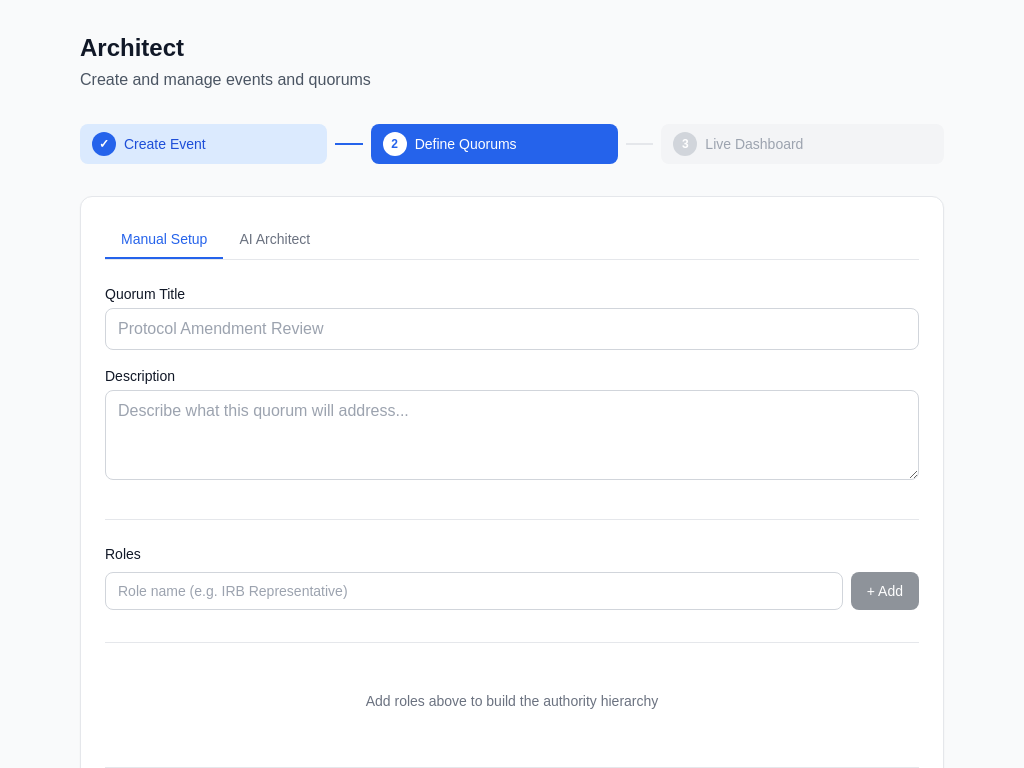
AI Architect Panel › switches to AI Architect panel when tab is clicked
Click the button "AI Architect".
click(275, 240)  # box [223,221,326,259]
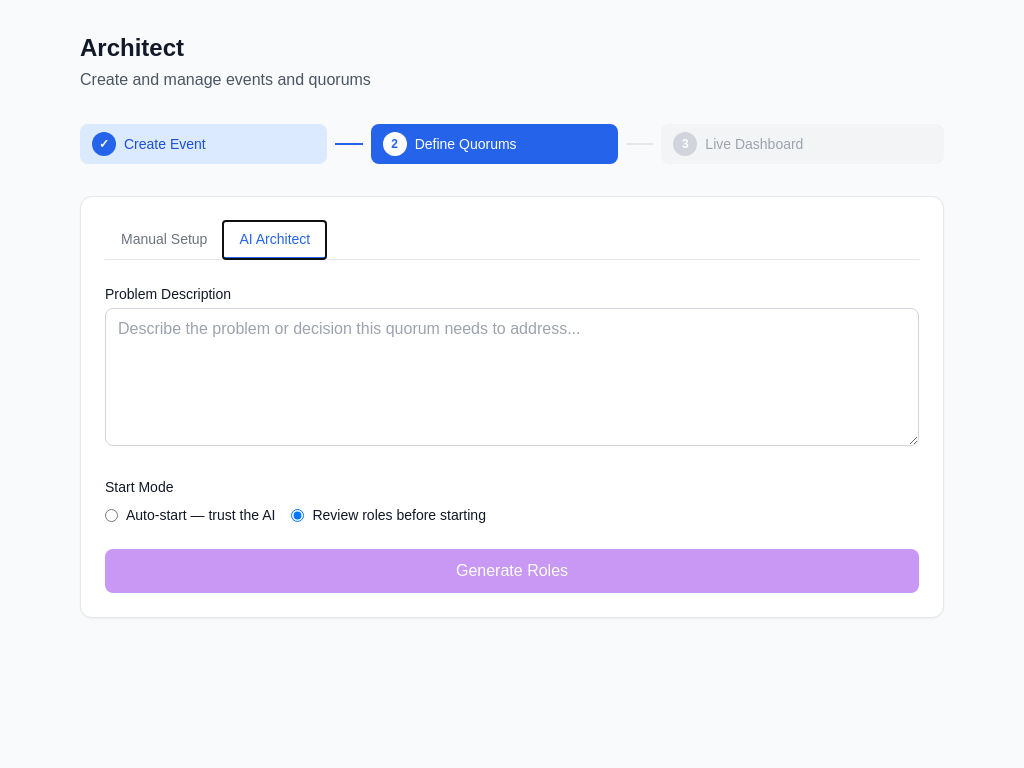
Now the text box labelled "Problem Description" is shown, box [105,308,919,446]
Now the text "Auto-start — trust the AI" is shown, box [126,505,275,525]
Now the text "Review roles before starting" is shown, box [312,505,486,525]
